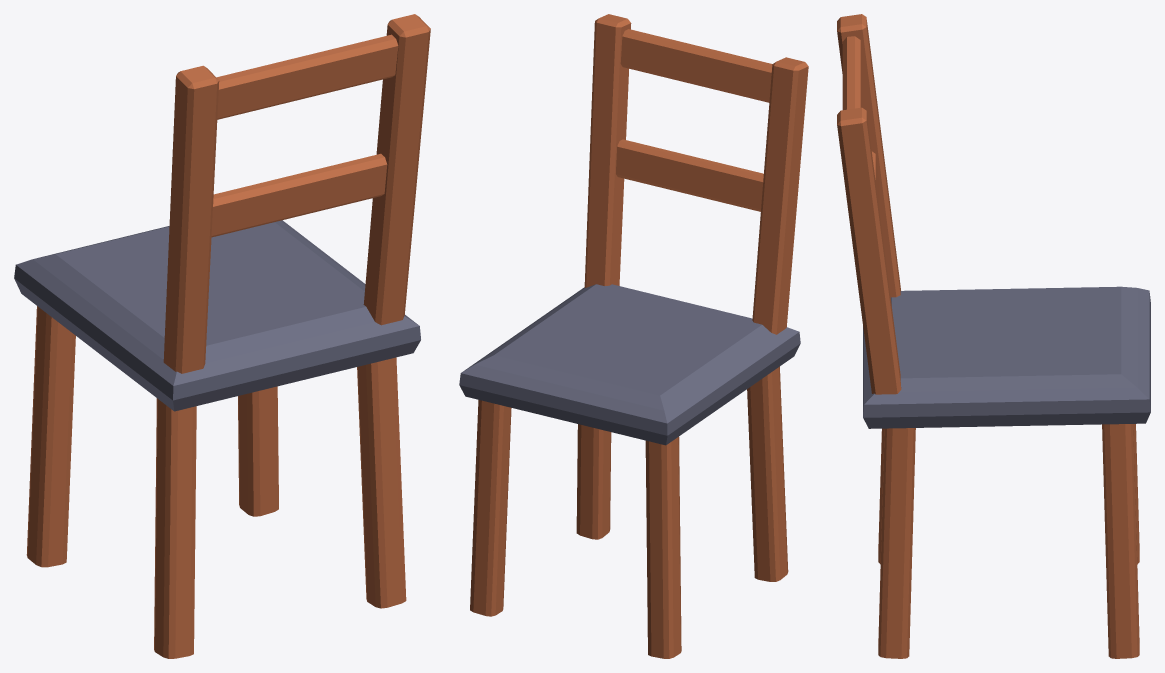
Rendered from Chair2blue.fbx.
3 renders of one model, left to right at view 1: azimuth 30°, elevation 25°; view 2: azimuth 150°, elevation 25°; view 3: azimuth 270°, elevation 25°, orthographic. The views are drawn at different scales.
Visible parts, largest first — view 1: chair 2 Blue; view 2: chair 2 Blue; view 3: chair 2 Blue.
Part boxes in pixels (box(x1,y1,x2,y2)): chair 2 Blue: box(14, 14, 430, 658); chair 2 Blue: box(459, 14, 808, 658); chair 2 Blue: box(837, 14, 1150, 658).
Size of the model in its own units: 135 by 310 by 163.
Materials: 1 (1 with a texture image).
